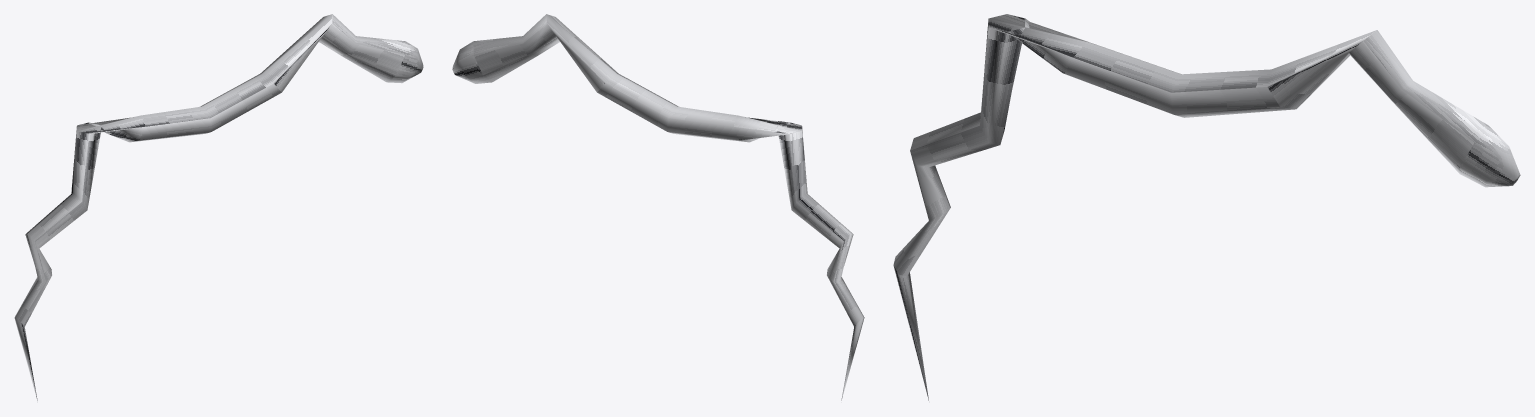
The model's file is snake_000002.obj.
3 views of the same model, side by side, from view 1: azimuth 30°, elevation 25°; view 2: azimuth 150°, elevation 25°; view 3: azimuth 330°, elevation 25° (orthographic). The views are drawn at different scales.
Visible parts, largest first — view 1: Cylinder; view 2: Cylinder; view 3: Cylinder.
Part boxes in pixels (left/top/right/bottom): Cylinder: left=14, top=14, right=423, bottom=400; Cylinder: left=452, top=14, right=864, bottom=400; Cylinder: left=893, top=14, right=1520, bottom=400.
Bounding box in the file's own units: 6.43 × 4.77 × 0.3671.
